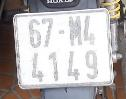1: (48, 51, 62, 82)
4: (83, 13, 98, 50), (66, 49, 81, 83), (32, 51, 46, 86)
6: (28, 18, 41, 49)
7: (41, 17, 54, 49)
9: (83, 49, 99, 81)
M: (67, 15, 82, 47)
